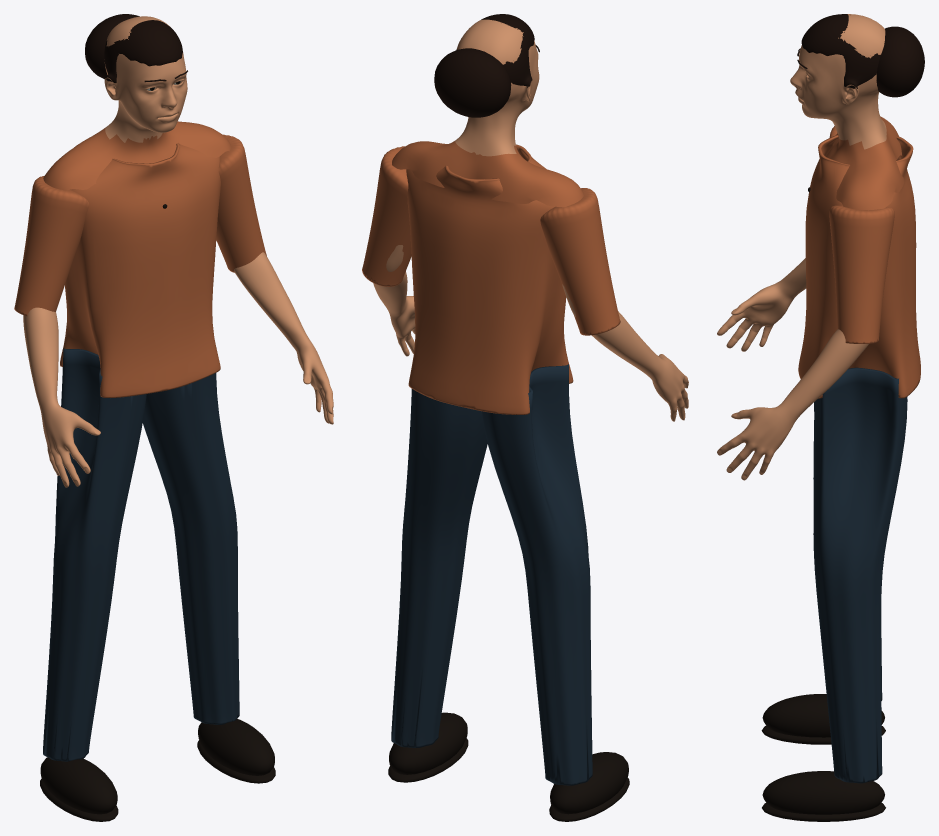
Rendered from naama.glb.
3 views of the same model, side by side, from view 1: azimuth 30°, elevation 25°; view 2: azimuth 150°, elevation 25°; view 3: azimuth 270°, elevation 25° (orthographic). The views are drawn at different scales.
Visible parts, largest first — view 1: Naama l trouser leg, Naama r linen sleeve, Naama anatomy, Naama leather loafer, Naama eyebrow.001; view 2: Naama l trouser leg, Naama r linen sleeve, Naama anatomy, Naama leather loafer, Naama eyebrow.001; view 3: Naama l trouser leg, Naama r linen sleeve, Naama anatomy, Naama leather loafer, Naama eyebrow.001.
Boxes of the visible parts, <box> form: Naama l trouser leg: <box>43,348,239,761</box>; Naama r linen sleeve: <box>14,134,266,397</box>; Naama anatomy: <box>23,16,333,487</box>; Naama leather loafer: <box>40,204,275,821</box>; Naama eyebrow.001: <box>85,14,187,83</box>; Naama l trouser leg: <box>391,364,592,785</box>; Naama r linen sleeve: <box>362,144,620,414</box>; Naama anatomy: <box>373,19,688,421</box>; Naama leather loafer: <box>388,712,629,821</box>; Naama eyebrow.001: <box>434,14,539,117</box>; Naama l trouser leg: <box>813,367,907,783</box>; Naama r linen sleeve: <box>798,126,920,398</box>; Naama anatomy: <box>717,14,904,480</box>; Naama leather loafer: <box>761,187,885,821</box>; Naama eyebrow.001: <box>797,14,924,97</box>.
Bounding box in the file's own units: 0.6484 × 1.7 × 0.4229.
